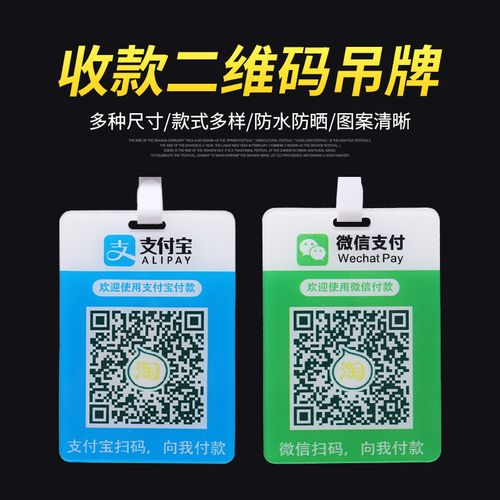QRCode: (291, 309, 412, 429), (85, 310, 205, 430)
